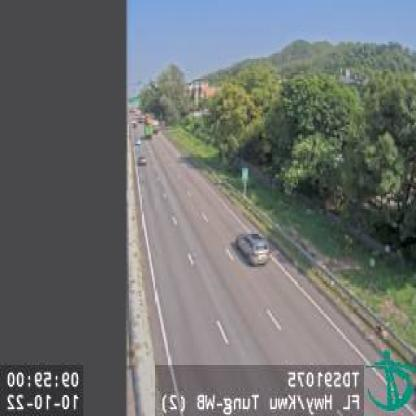Car: (234, 230, 269, 266)
